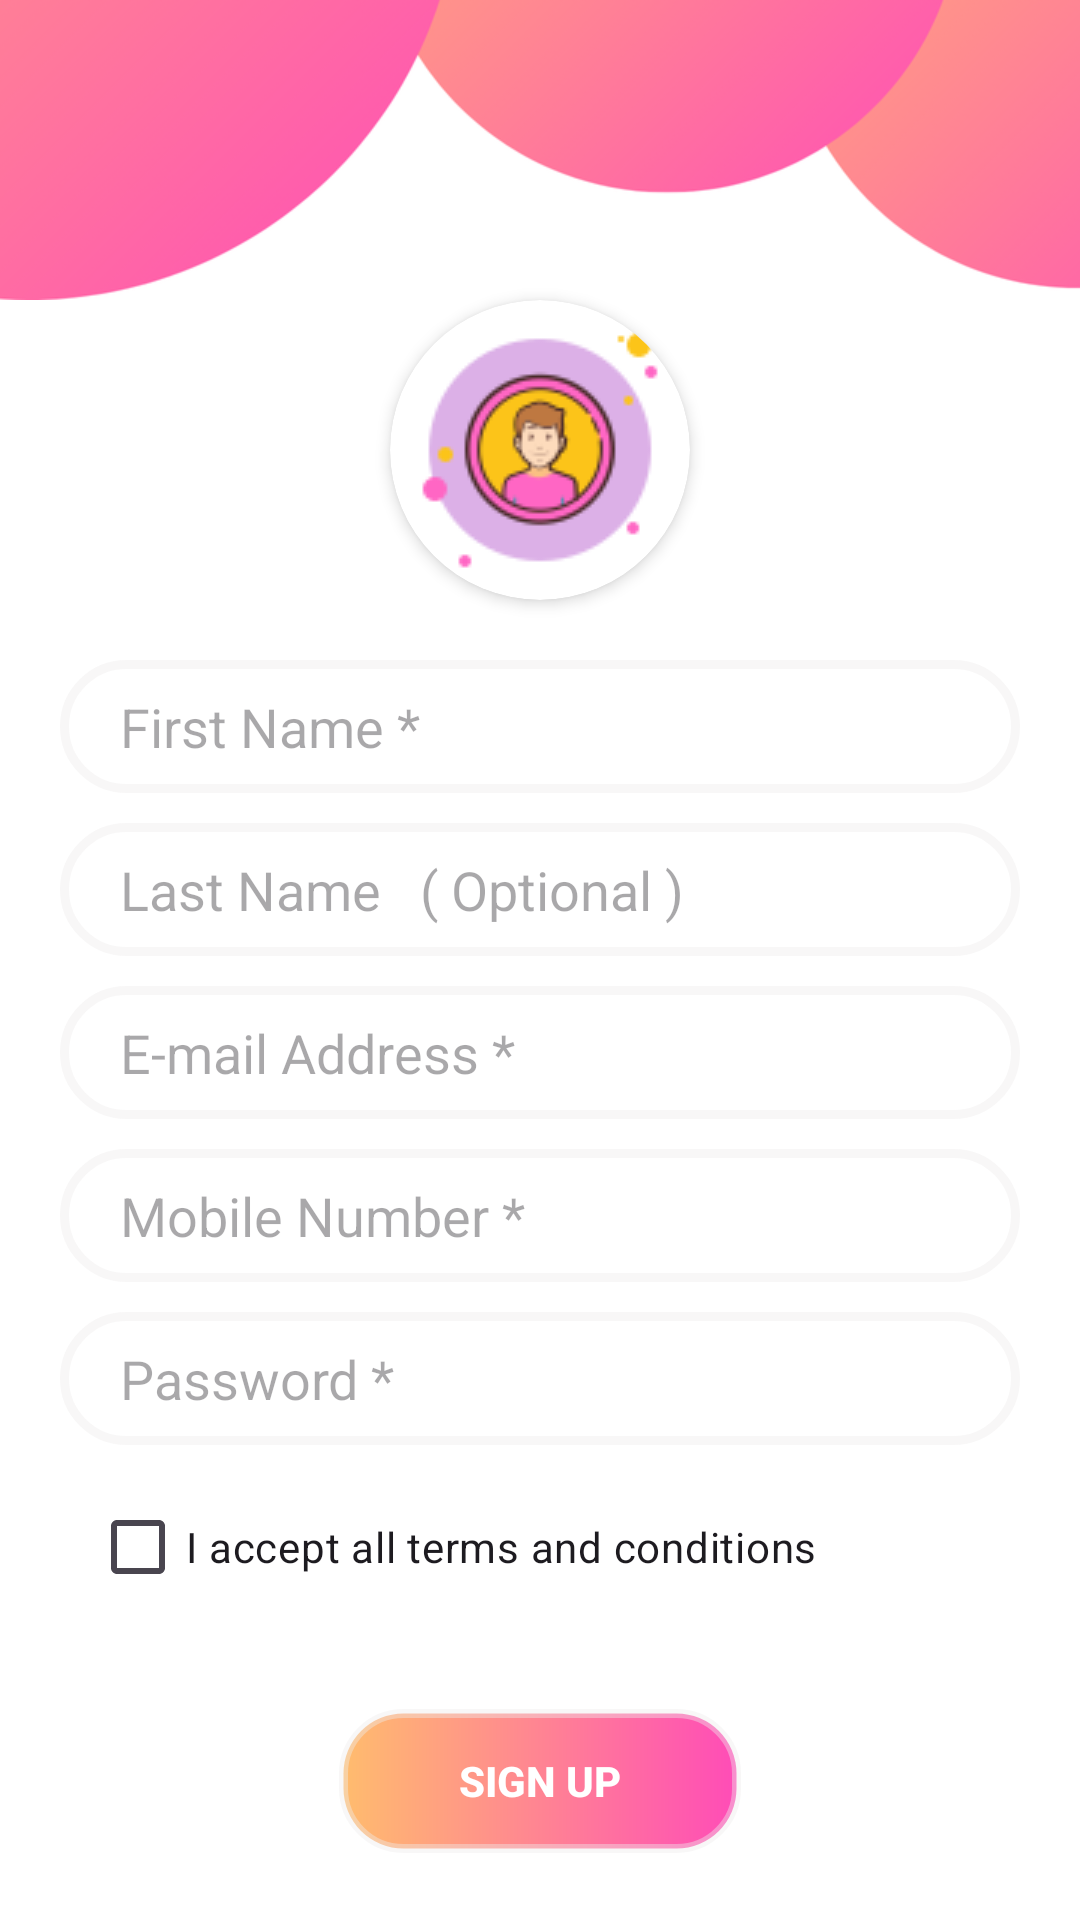

Icons on this 1080w x 1920h Android screen, each with its box as (x1, y1, x2, y2):
account: (396, 332, 684, 600)
